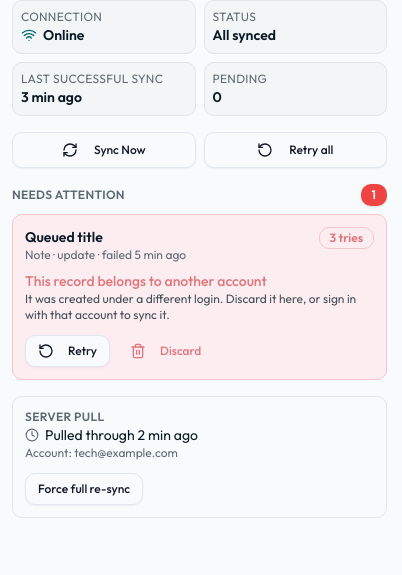
Scenario: SyncHealthPanel › surfaces action failures instead of swallowing them
The width and height of the screenshot is (402, 575).
Click the button with aria-label "Retry Queued title" at (68, 351), box [25,335,110,367]
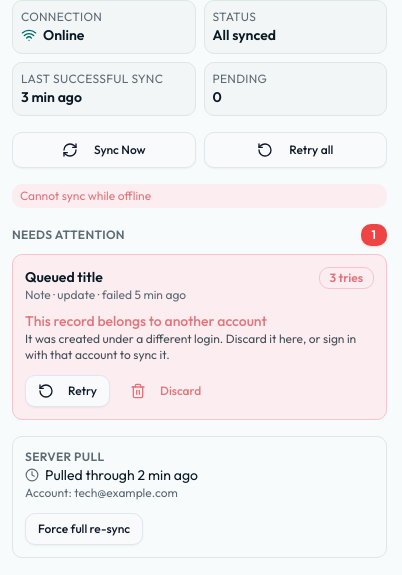
Check: the text "Cannot sync while offline" is shown, box [12,184,387,208]
